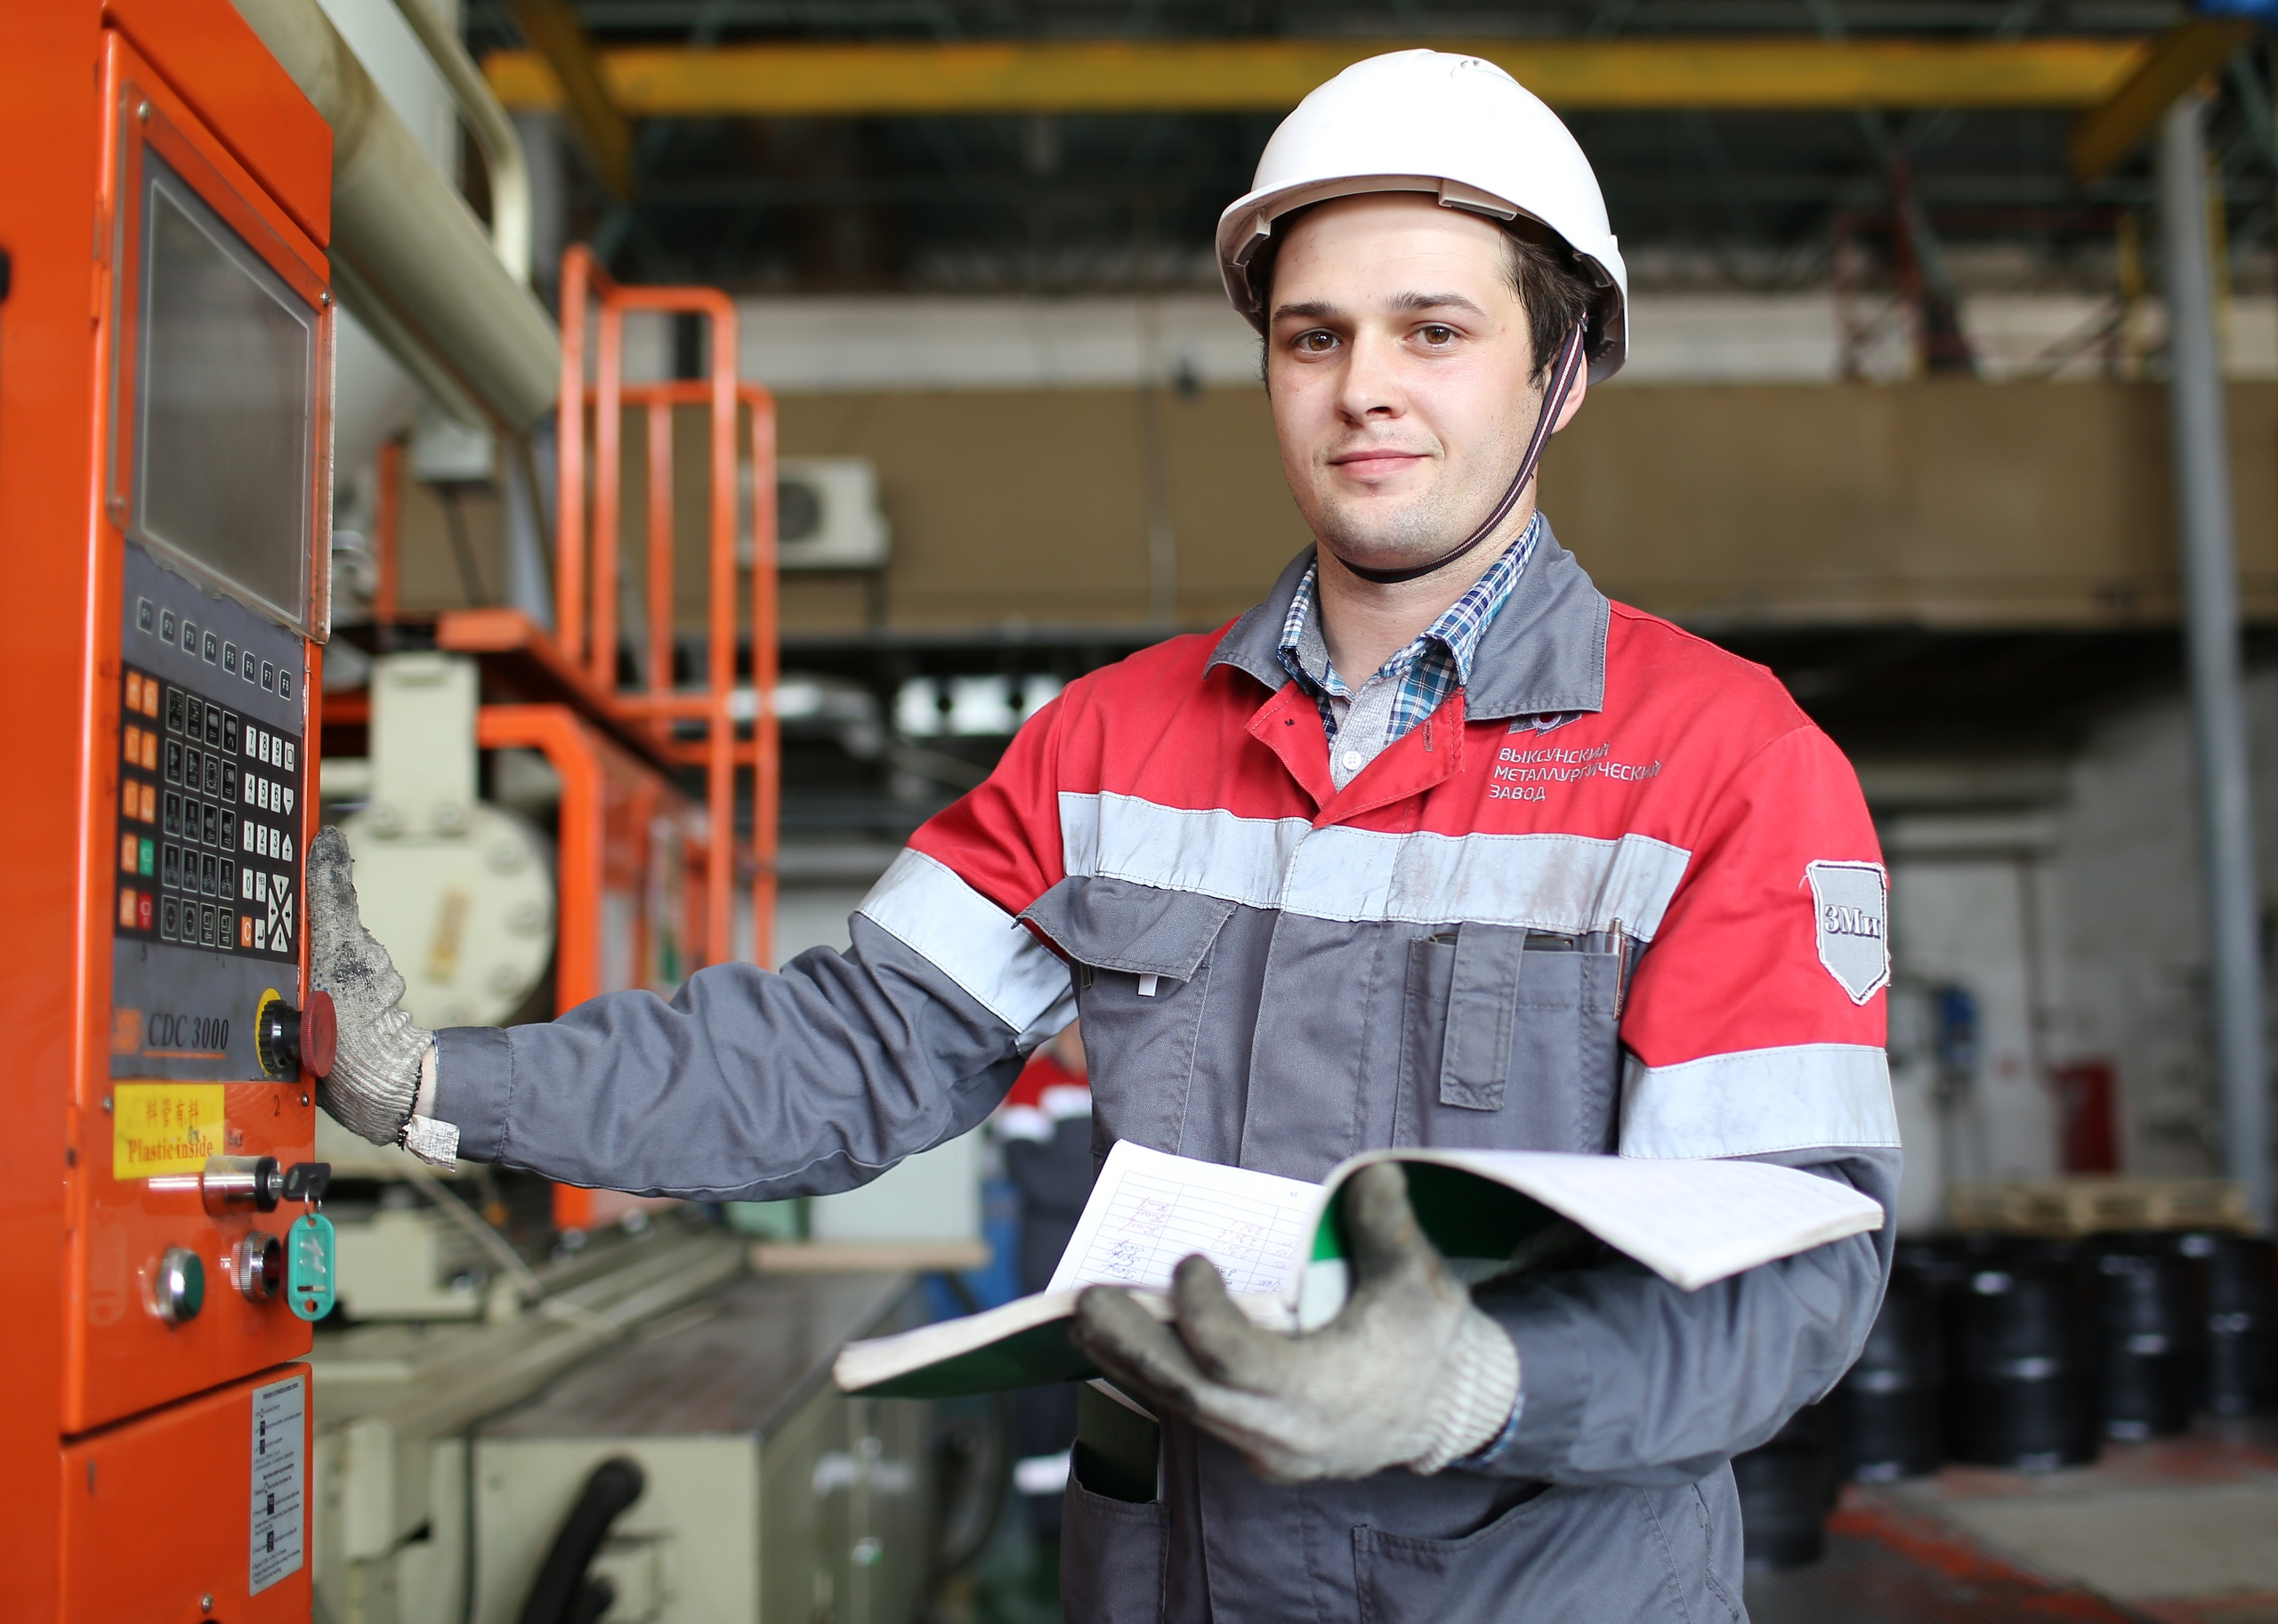person: (305, 48, 1909, 1624)
